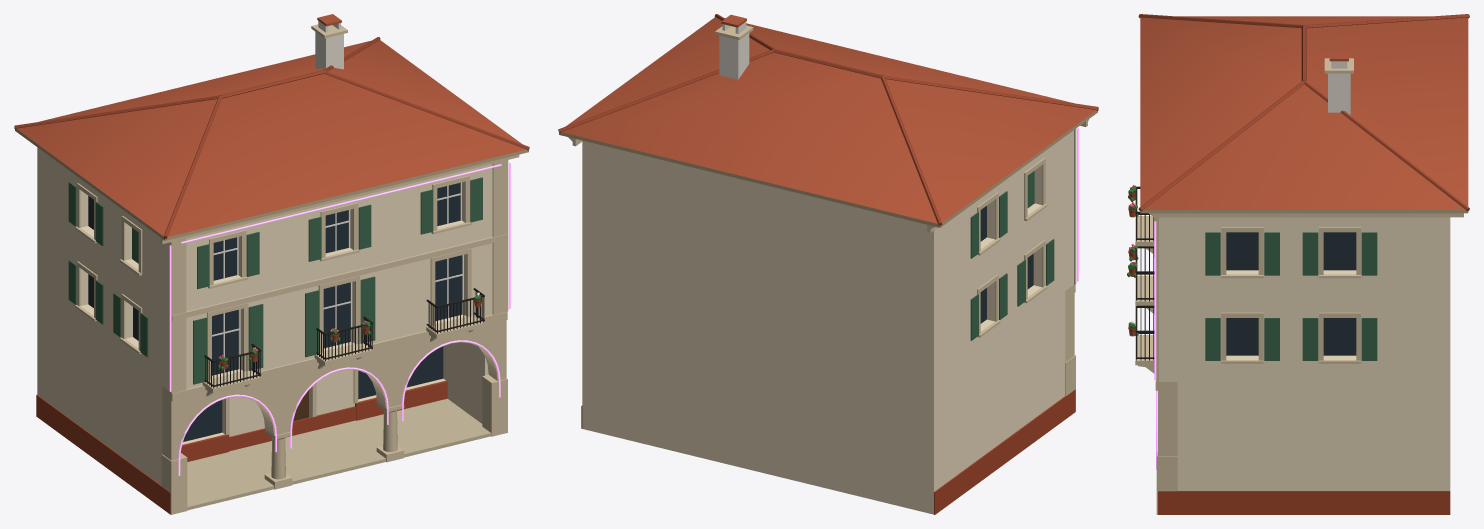
3 views of the same model, side by side, from view 1: azimuth 30°, elevation 25°; view 2: azimuth 150°, elevation 25°; view 3: azimuth 270°, elevation 25° (orthographic). The views are drawn at different scales.
Parts seen in each view (by area): view 1: house_sw.lod0; view 2: house_sw.lod0; view 3: house_sw.lod0.
Boxes of the visible parts, <box> form: house_sw.lod0: <box>14,14,529,514</box>; house_sw.lod0: <box>558,14,1098,514</box>; house_sw.lod0: <box>1127,14,1469,514</box>.
Bounding box in the file's own units: 14.2 × 13.91 × 10.56.
